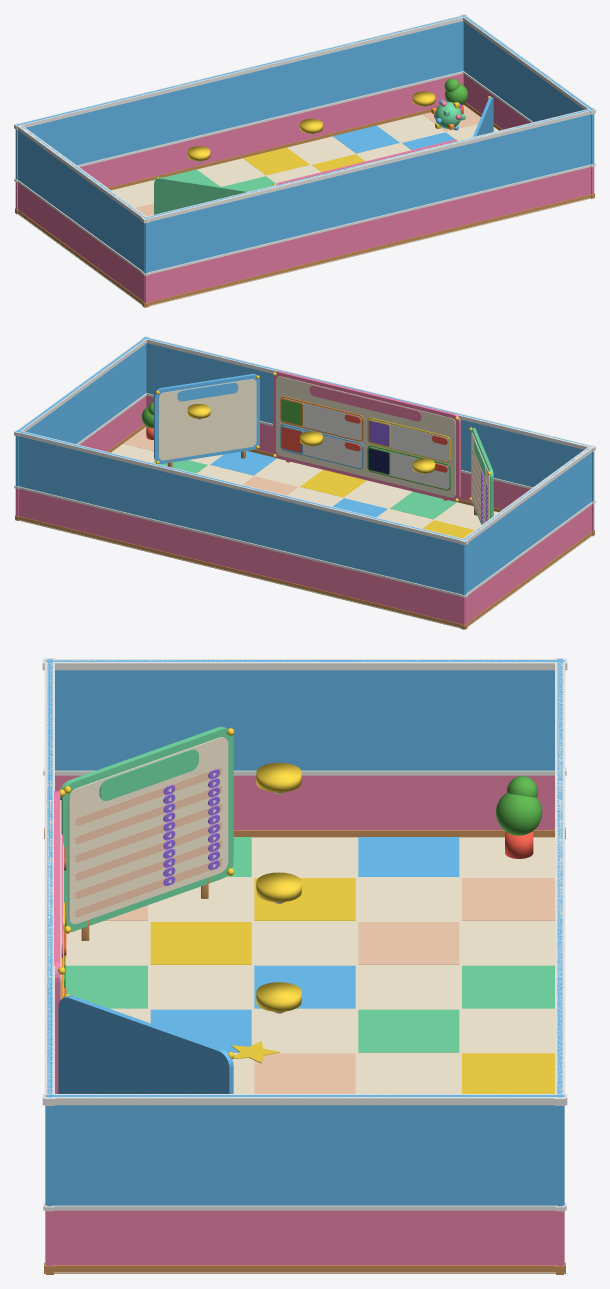
The model's file is HubRoomArt.fbx.
The picture shows the model from 3 angles, top to bottom: view 1: azimuth 30°, elevation 25°; view 2: azimuth 150°, elevation 25°; view 3: azimuth 270°, elevation 25°; orthographic projection. The views are drawn at different scales.
Visible parts, largest first — view 1: Art_Hub_Sky, Art_Hub_Pink, Art_Hub_White, Art_Hub_Cream, Art_Hub_Wood, Art_Hub_Mint, Art_Hub_Lemon, Art_Hub_Peach, Art_Hub_Leaf; view 2: Art_Hub_Sky, Art_Hub_Pink, Art_Hub_Cream, Art_Hub_White, Art_Hub_Wood, Art_Hub_Lemon, Art_Hub_Mint, Art_Hub_Peach, Art_Hub_Leaf, Art_Hub_Tomato, Art_Hub_Grape, Art_Hub_Orange (+1 smaller); view 3: Art_Hub_Sky, Art_Hub_Cream, Art_Hub_Pink, Art_Hub_White, Art_Hub_Peach, Art_Hub_Mint, Art_Hub_Lemon, Art_Hub_Wood, Art_Hub_Leaf, Art_Hub_Grape, Art_Hub_Tomato.
Boxes of the visible parts, x1,y1,x2,y2 form: Art_Hub_Sky: (15,15,594,273); Art_Hub_Pink: (15,74,594,303); Art_Hub_White: (14,14,595,275); Art_Hub_Cream: (17,114,590,306); Art_Hub_Wood: (15,102,594,307); Art_Hub_Mint: (153,101,465,214); Art_Hub_Lemon: (156,91,490,185); Art_Hub_Peach: (135,105,480,216); Art_Hub_Leaf: (444,78,468,105); Art_Hub_Sky: (15,337,594,595); Art_Hub_Pink: (15,371,594,625); Art_Hub_Cream: (19,376,592,628); Art_Hub_White: (14,336,595,597); Art_Hub_Wood: (15,424,594,629); Art_Hub_Lemon: (156,372,491,538); Art_Hub_Mint: (153,428,493,524); Art_Hub_Peach: (123,427,488,523); Art_Hub_Leaf: (141,399,450,490); Art_Hub_Tomato: (146,414,447,472); Art_Hub_Grape: (368,421,487,522); Art_Hub_Orange: (280,396,363,441); Art_Hub_Sky: (45,659,564,1206); Art_Hub_Cream: (45,737,564,1273); Art_Hub_Pink: (45,775,564,1266); Art_Hub_White: (42,658,567,1211); Art_Hub_Peach: (75,767,554,1093); Art_Hub_Mint: (60,726,554,1052); Art_Hub_Lemon: (58,728,554,1093); Art_Hub_Wood: (44,827,565,1274); Art_Hub_Leaf: (64,776,542,993); Art_Hub_Grape: (65,769,219,964); Art_Hub_Tomato: (64,831,533,994).
Size of the model in its own units: 16.08 by 3.05 by 8.08.
